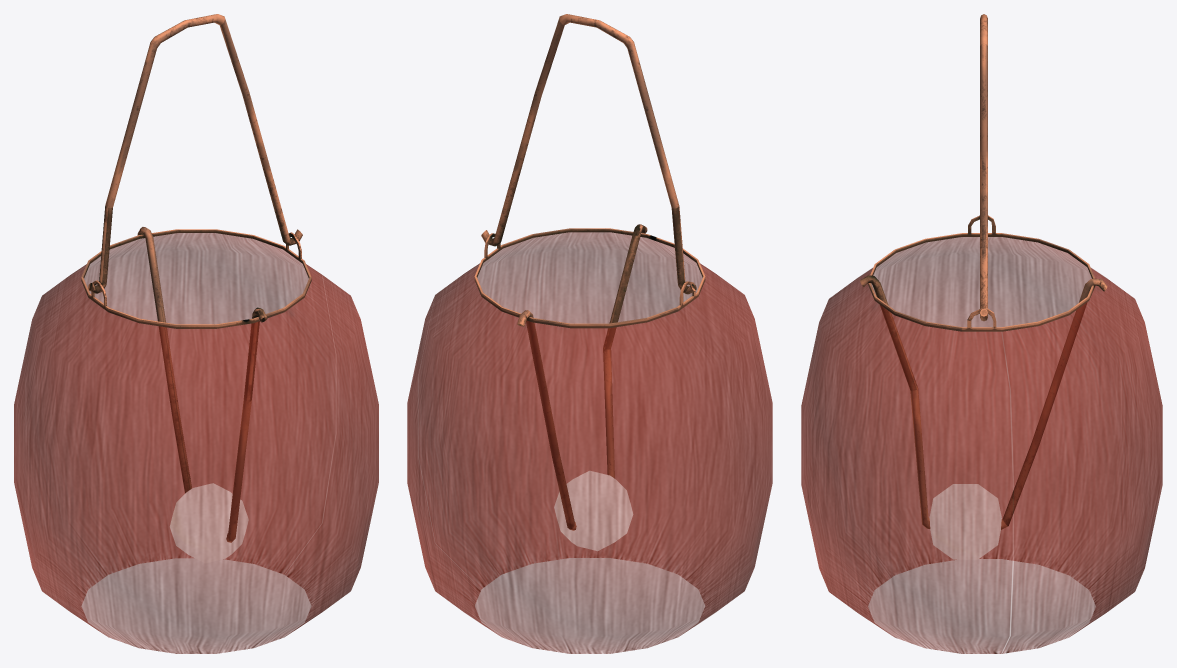
File: chinese-lantern.glb
3 renders of one model, left to right at view 1: azimuth 30°, elevation 25°; view 2: azimuth 150°, elevation 25°; view 3: azimuth 270°, elevation 25°, orthographic.
Visible parts, largest first — view 1: Object_2; view 2: Object_2; view 3: Object_2.
Part boxes in pixels (box(x1,y1,x2,y2)): Object_2: box(14, 14, 378, 653); Object_2: box(407, 14, 772, 653); Object_2: box(801, 14, 1162, 653).
Size of the model in its own units: 72.29 by 130 by 73.4.
Materials: 1 (1 with a texture image).
